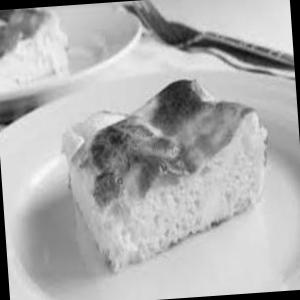omelet: (51, 82, 283, 268)
